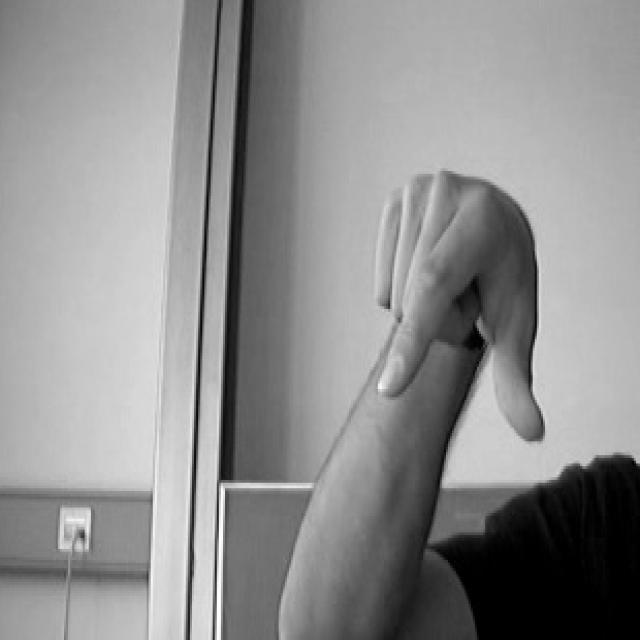Q: (359, 135, 564, 461)
